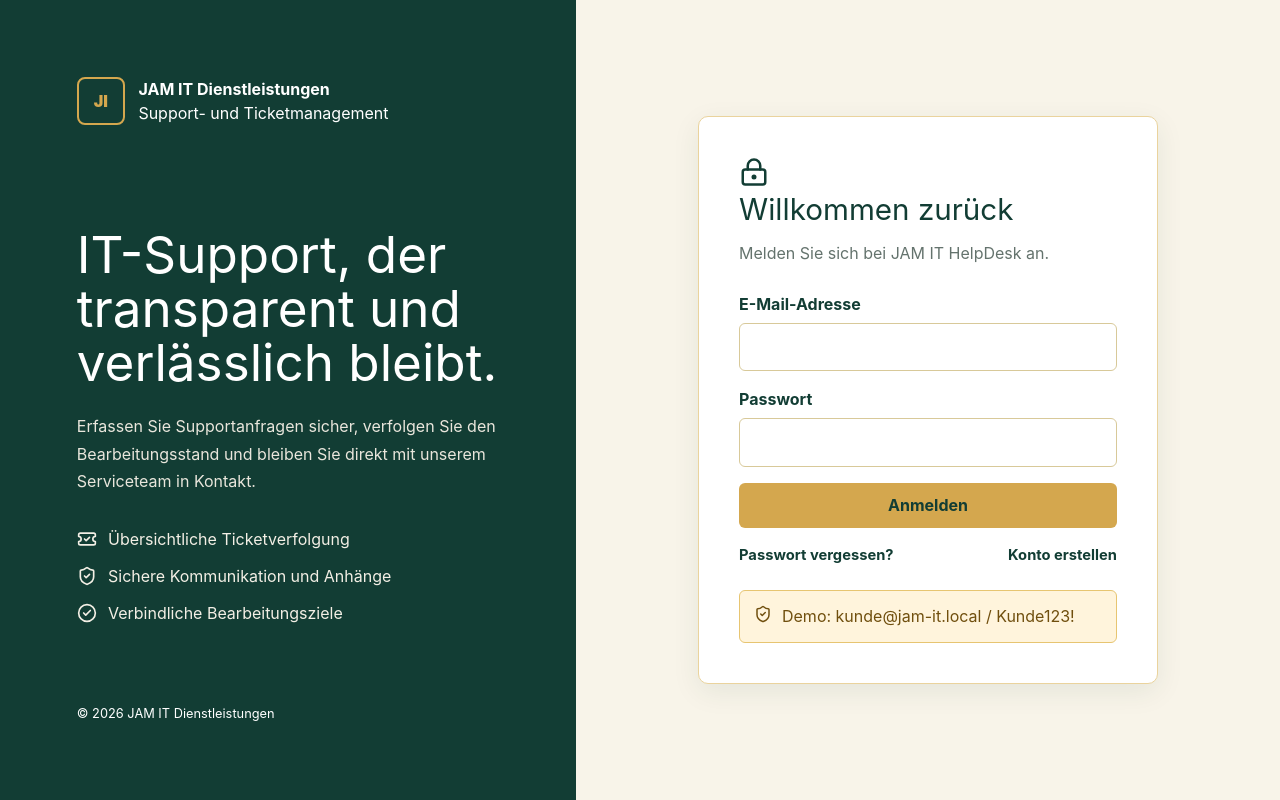
Test: Anmeldeformular › zeigt deutsche Validierungsmeldungen
Click the button "Anmelden".
click(928, 505)  # box [739,482,1117,528]
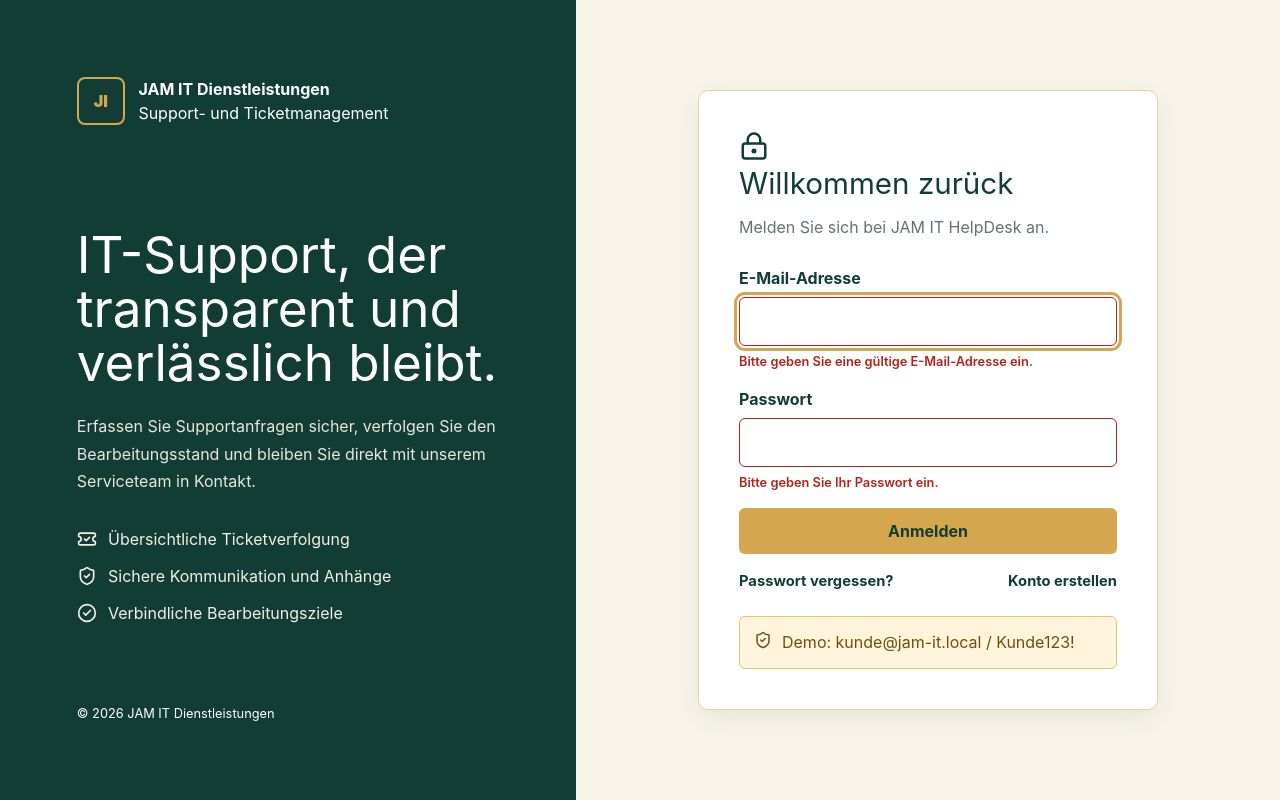
Expected: the text "Bitte geben Sie eine gültige E-Mail-Adresse ein." is shown, [739,354,1033,369]
Expected: the text "Bitte geben Sie Ihr Passwort ein." is shown, [739,475,938,490]
